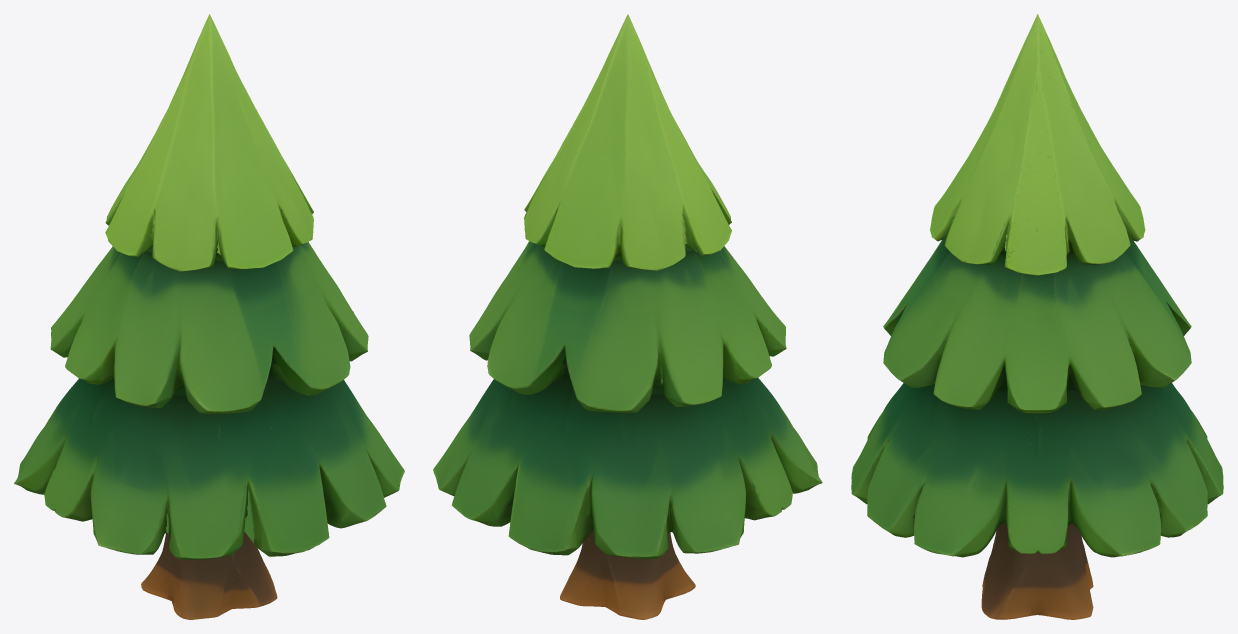
File: base_basic_shaded.fbx
The picture shows the model from 3 angles, left to right: view 1: azimuth 30°, elevation 25°; view 2: azimuth 150°, elevation 25°; view 3: azimuth 270°, elevation 25°; orthographic projection.
Parts seen in each view (by area): view 1: geometry_0; view 2: geometry_0; view 3: geometry_0.
Part boxes in pixels (bbox=[...]): geometry_0: bbox=[14, 14, 404, 619]; geometry_0: bbox=[433, 14, 822, 619]; geometry_0: bbox=[851, 14, 1223, 619].
Size of the model in its own units: 107 by 190 by 110.
